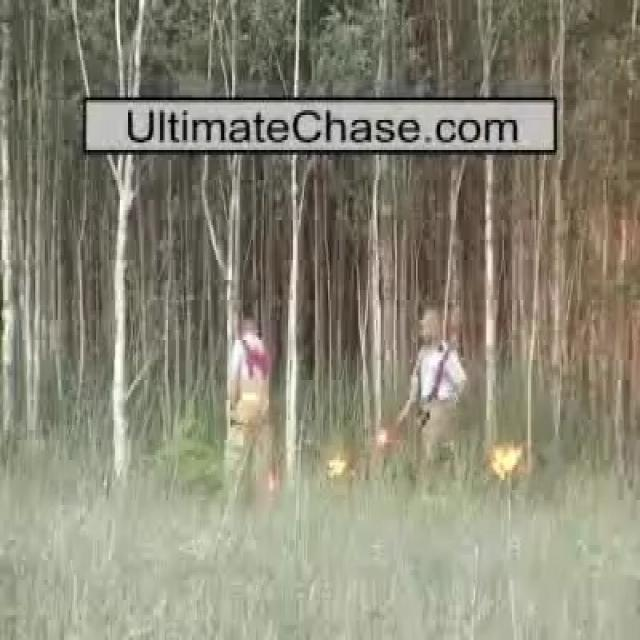fire: (490, 443, 522, 475)
